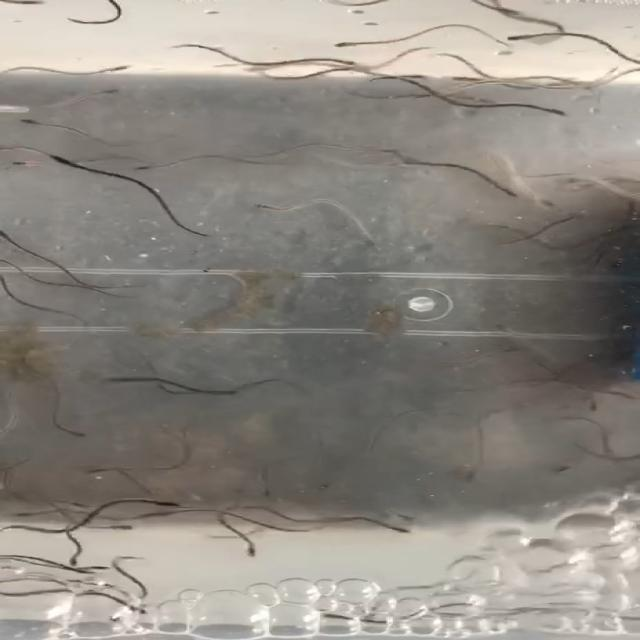active_glass_eel: (487, 93, 582, 123), (234, 189, 303, 216), (83, 47, 140, 73), (6, 105, 62, 129), (53, 420, 114, 442), (490, 27, 544, 50), (474, 175, 519, 202), (124, 156, 179, 178), (368, 516, 416, 540), (2, 154, 53, 174), (79, 463, 129, 483), (85, 84, 131, 105), (452, 461, 488, 487), (326, 28, 374, 46), (308, 54, 369, 67), (0, 230, 35, 252), (566, 394, 602, 415), (535, 195, 574, 214), (237, 536, 270, 558), (89, 520, 134, 534), (53, 548, 87, 566), (144, 493, 182, 509), (554, 464, 579, 482), (10, 506, 42, 520)
